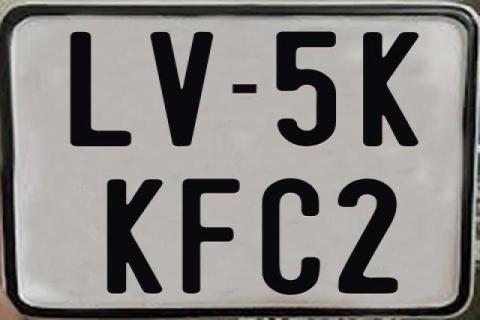0: (336, 178, 401, 296), (274, 30, 334, 148)
C: (262, 178, 323, 298)
F: (182, 178, 244, 296)
K: (105, 180, 166, 298), (363, 31, 422, 151)
L: (67, 31, 132, 149)
V: (149, 30, 214, 146)
